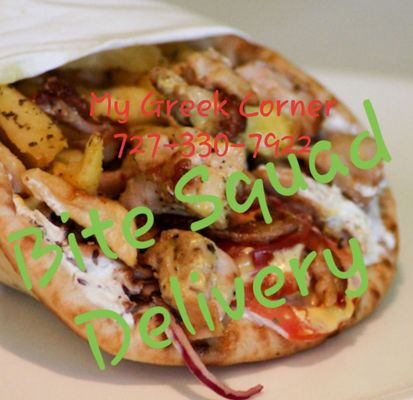sandwich: (0, 19, 404, 377)
